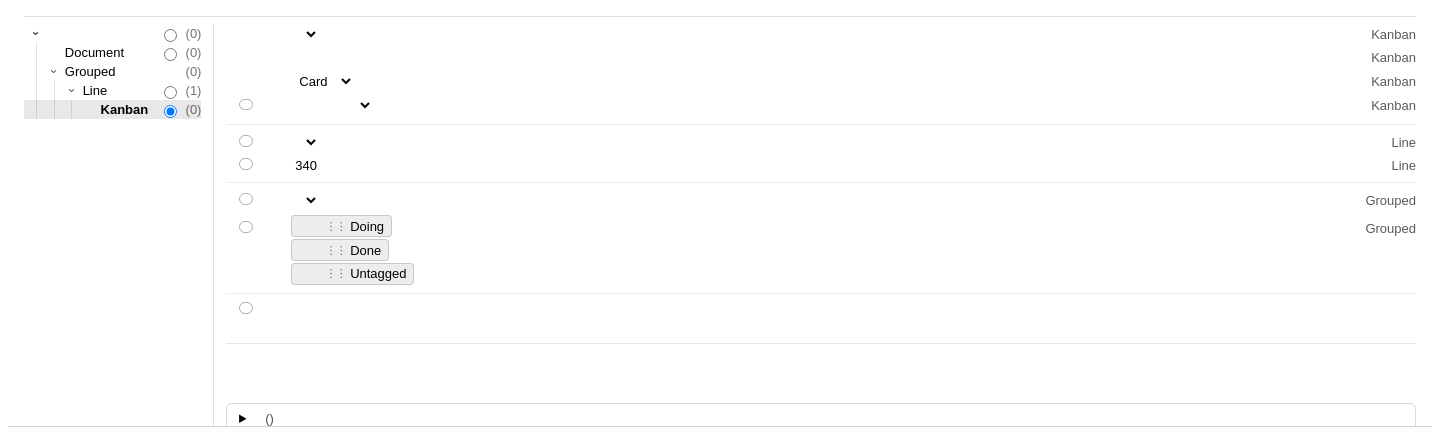
the group breadth row › rejects what is not a number, writes nothing and goes back to the saved value
Replace the text in the field with test id "setting-control-lineBreadth" with "wide" at (325, 165), box [291,156,358,175]
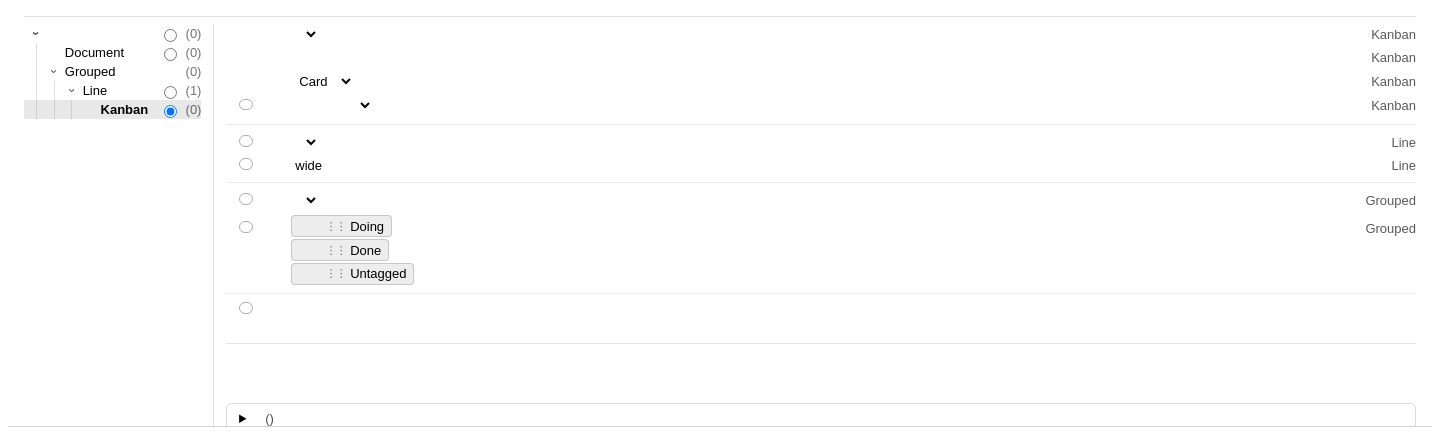
Leave the field with test id "setting-control-lineBreadth", box [291,156,358,175]
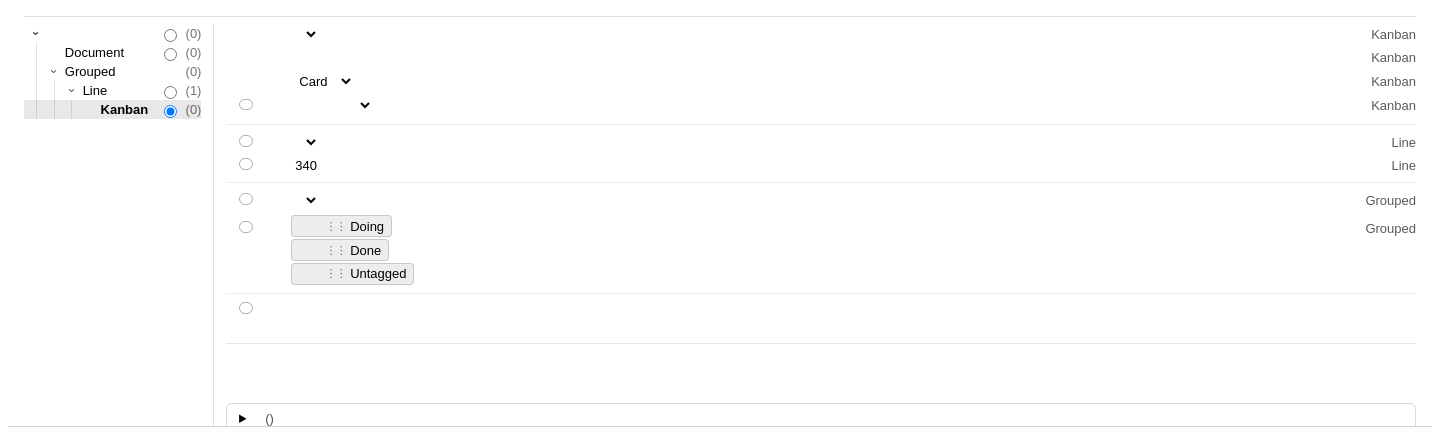
Now the field with test id "setting-control-lineBreadth" holds "340", box [291,156,358,175]
